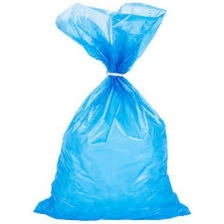plastic_bag: (26, 0, 195, 221)
